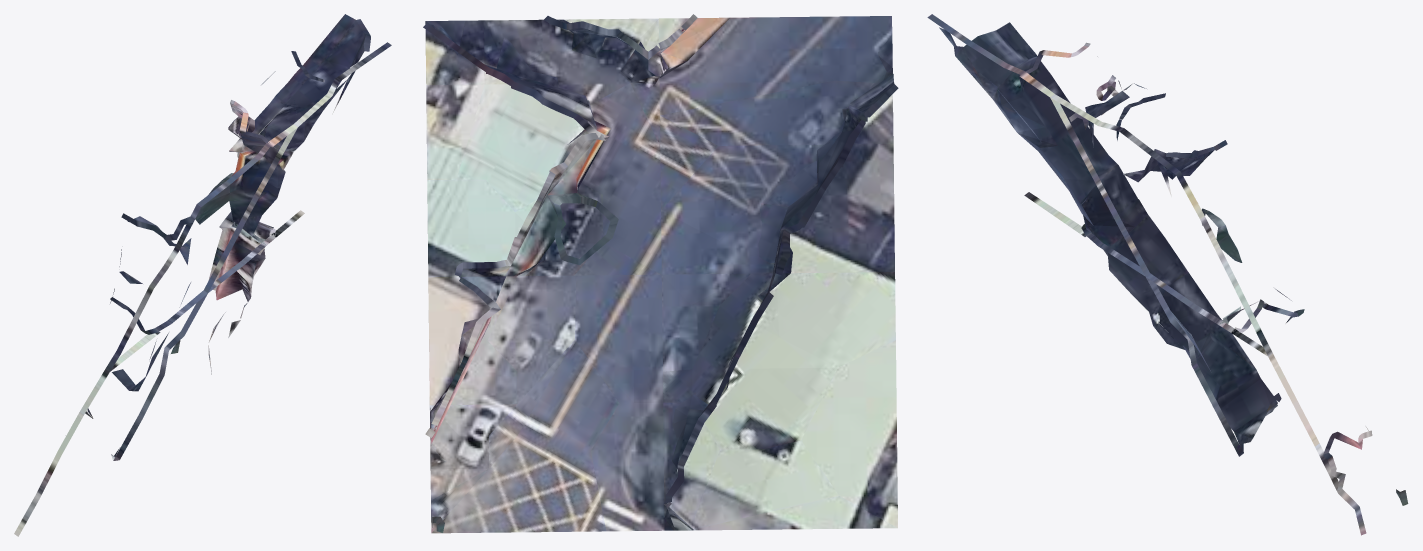
3 views of the same model, side by side, from view 1: azimuth 30°, elevation 25°; view 2: azimuth 150°, elevation 25°; view 3: azimuth 270°, elevation 25° (orthographic). The views are drawn at different scales.
Size of the model in its own units: 38.34 by 36.93 by 36.47.
1 material, 1 textured.
